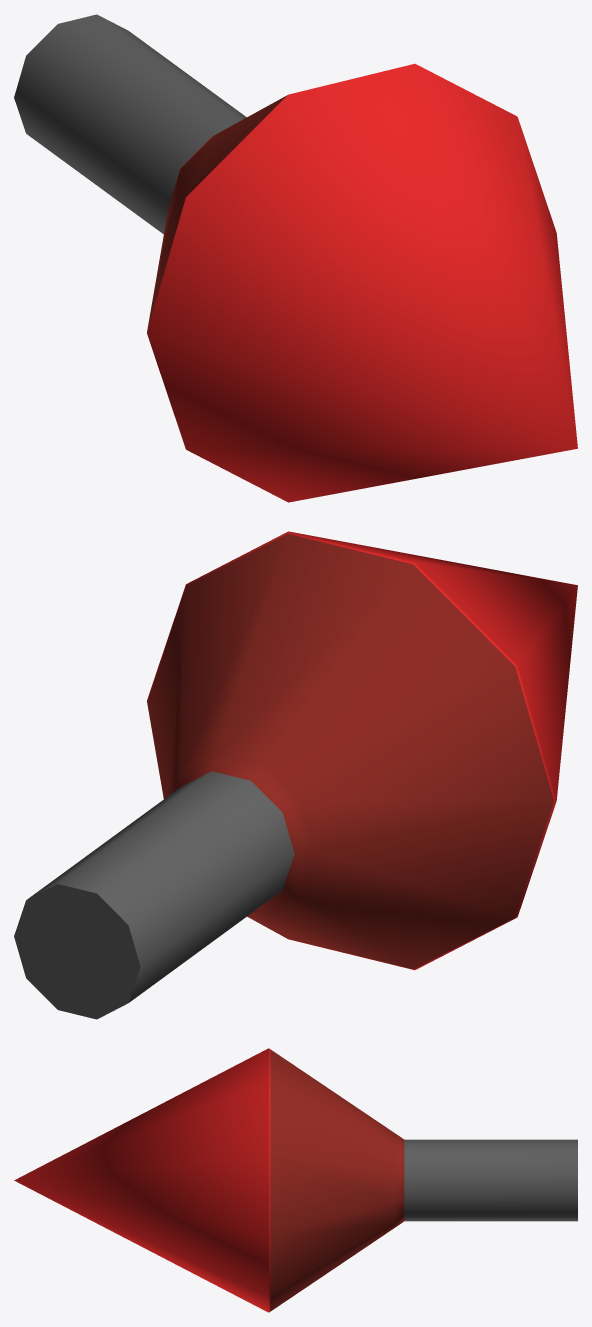
File: Launcher Fragment.fbx
3 views of the same model, one above another, from view 1: azimuth 30°, elevation 25°; view 2: azimuth 150°, elevation 25°; view 3: azimuth 270°, elevation 25° (orthographic). The views are drawn at different scales.
Parts seen in each view (by area): view 1: Model; view 2: Model; view 3: Model.
Boxes of the visible parts, x1,y1,x2,y2 form: Model: (14, 14, 577, 502); Model: (14, 531, 577, 1019); Model: (14, 1048, 577, 1312).
Size of the model in its own units: 21.92 by 20.85 by 46.37.
